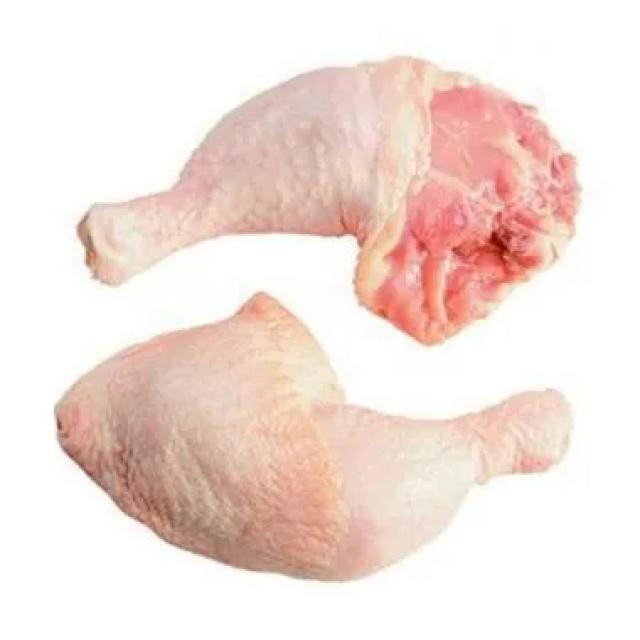chicken: (57, 291, 572, 583), (85, 57, 578, 336)
